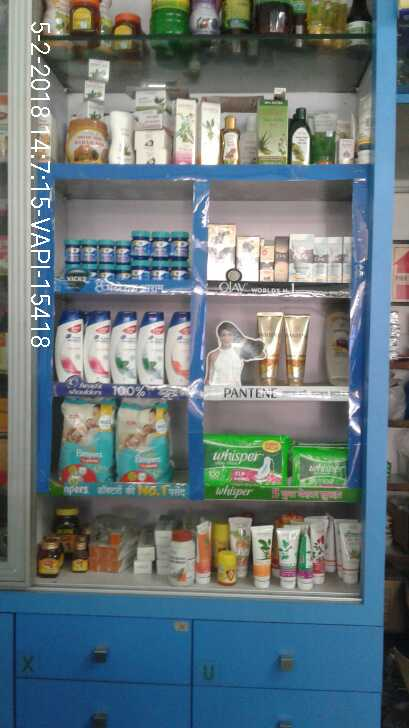vicks: (58, 230, 192, 281)
